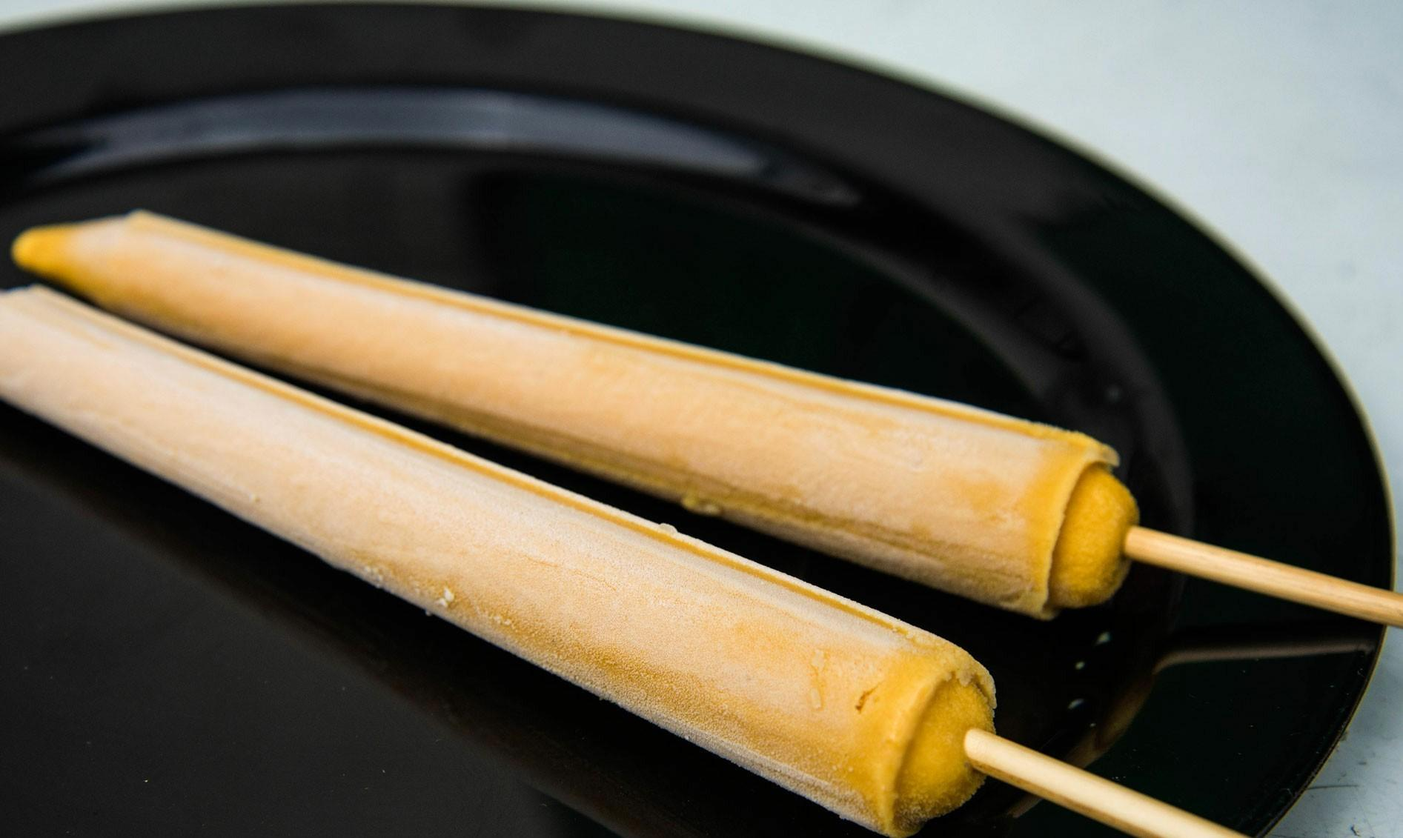Kulfi: (0, 283, 998, 836), (13, 212, 1135, 620)
